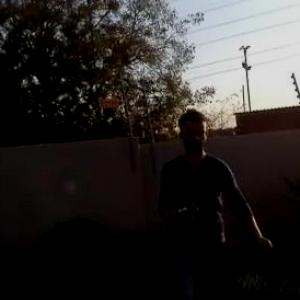follow: (148, 102, 282, 299)
